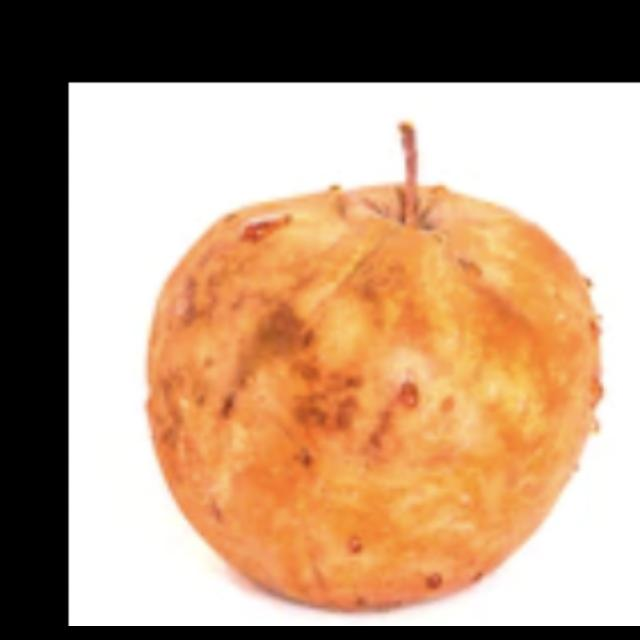Apel Tidak Segar: (138, 172, 610, 626)
